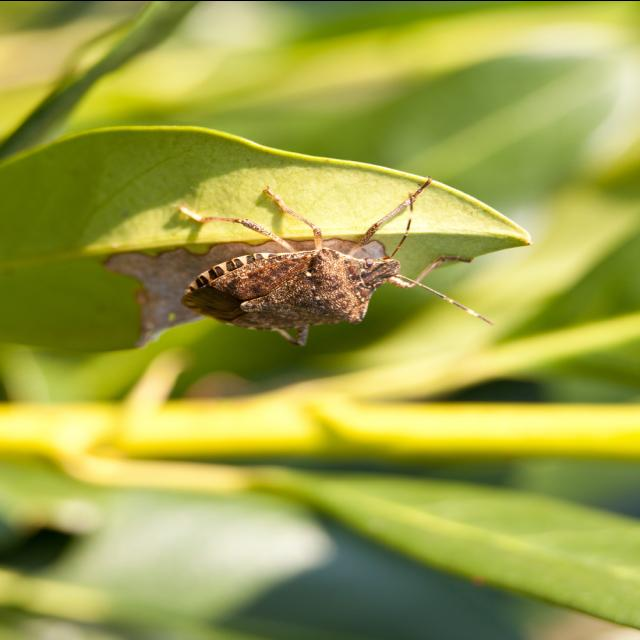stink_bug: (159, 167, 507, 349)
